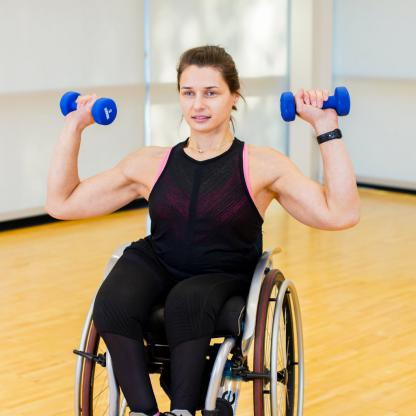wheelchair: (45, 45, 363, 416)
